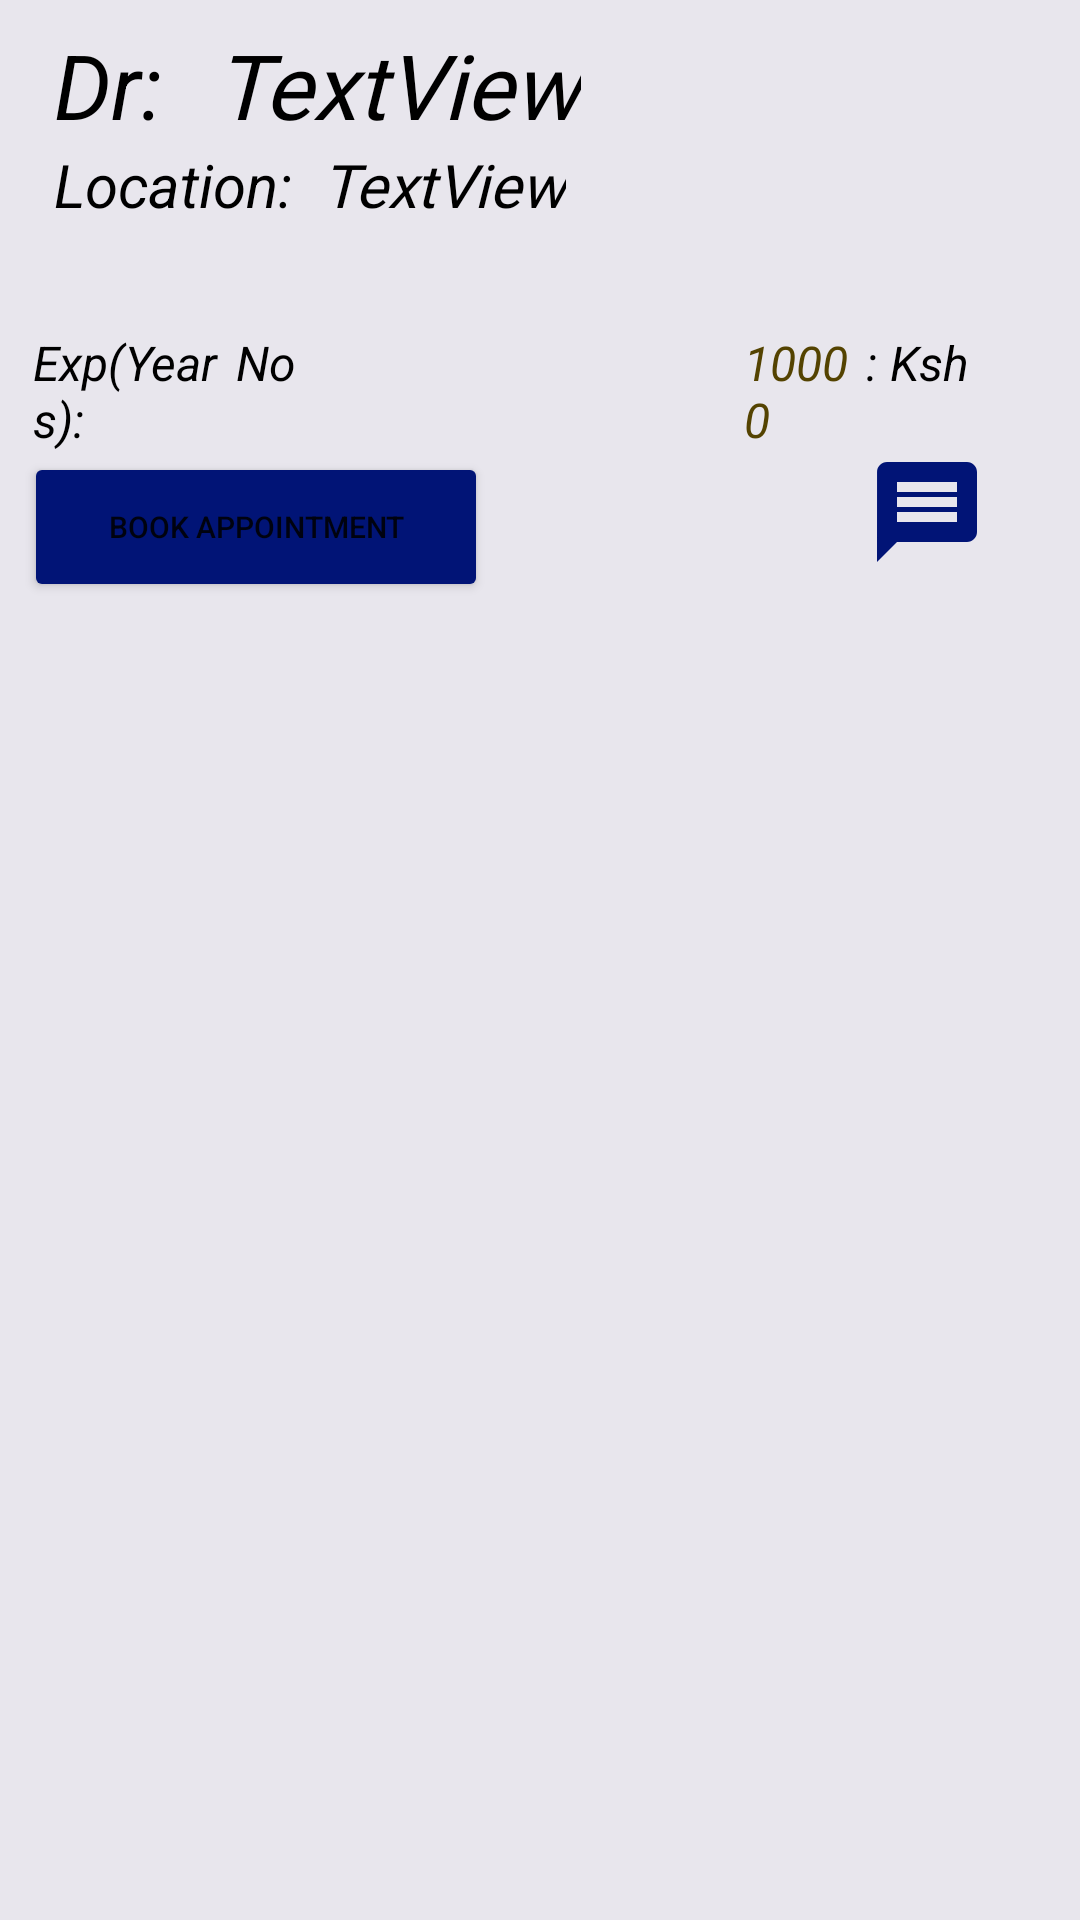

Icon click points for this 1080w x 1920h phone screenshot, format point (x, y):
message: point (927, 512)
